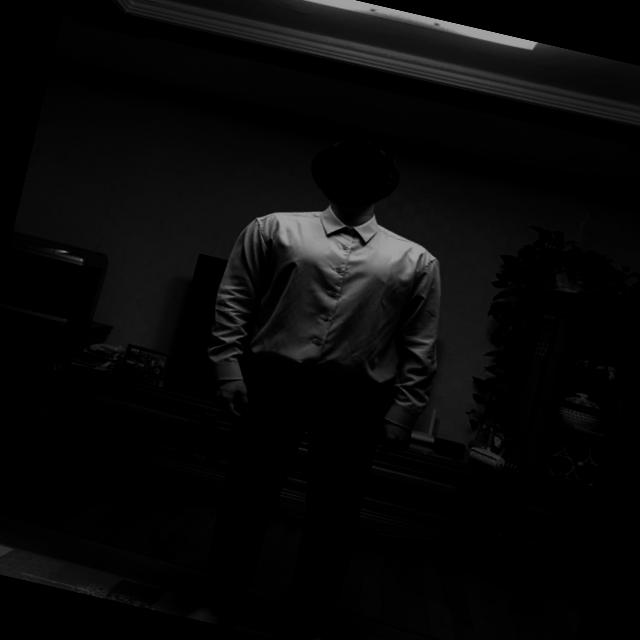shirt: (195, 178, 469, 440)
slacks: (182, 343, 396, 639)
